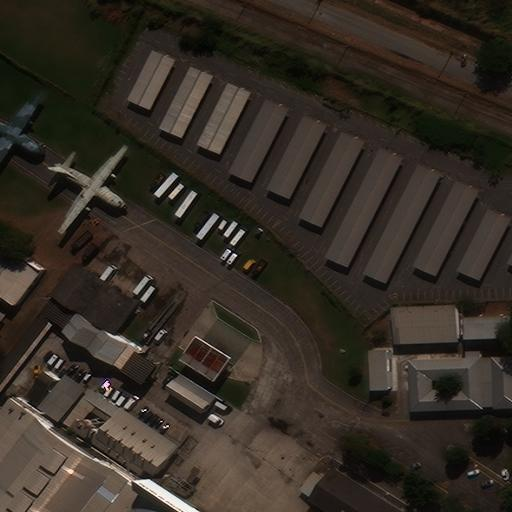Military Transport: (50, 147, 127, 233), (0, 95, 45, 175)
